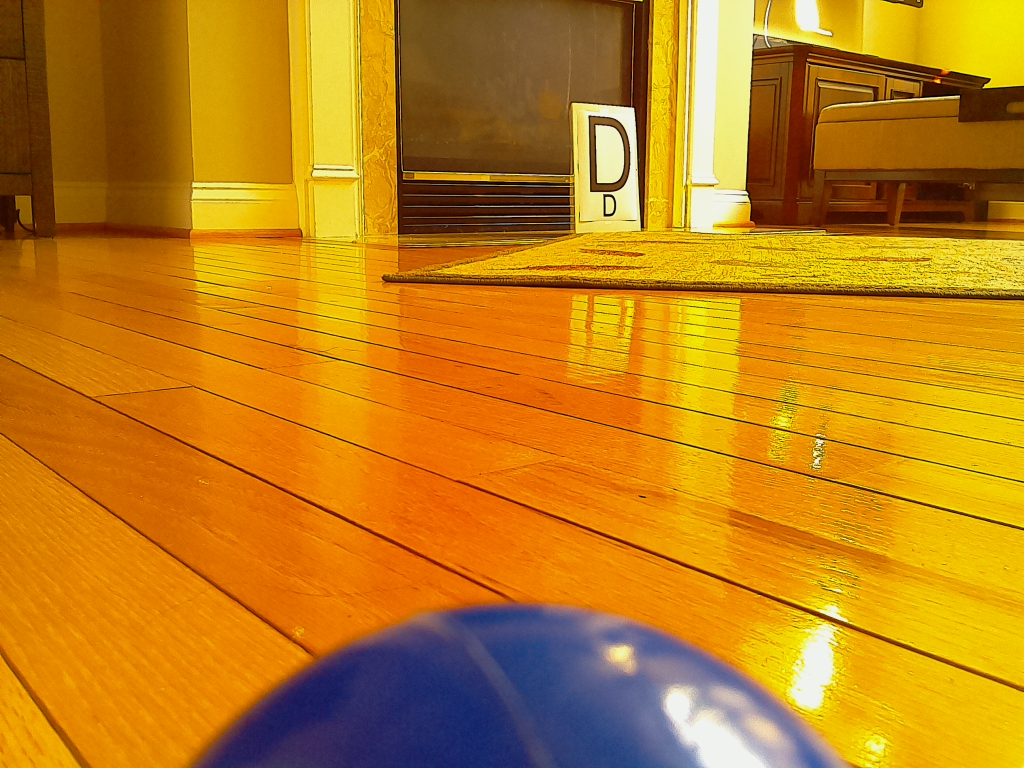letter: (590, 116, 630, 192)
